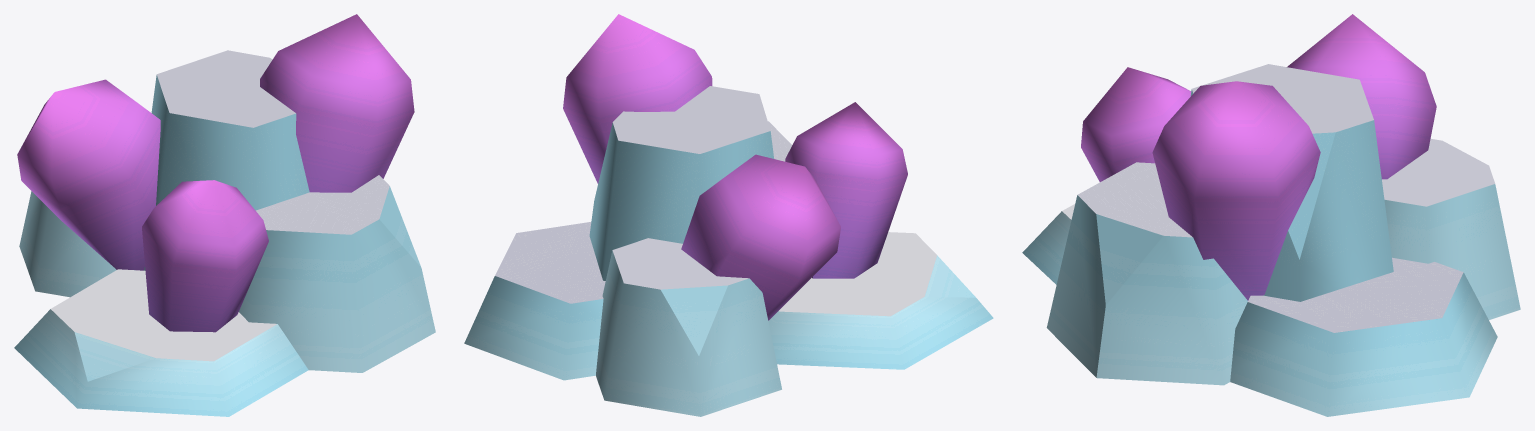
The model's file is snow-detail-crystal-large.glb.
3 renders of one model, left to right at view 1: azimuth 30°, elevation 25°; view 2: azimuth 150°, elevation 25°; view 3: azimuth 270°, elevation 25°, orthographic. The views are drawn at different scales.
Visible parts, largest first — view 1: snow-detail-crystal-large; view 2: snow-detail-crystal-large; view 3: snow-detail-crystal-large.
Part boxes in pixels (x1,y1,x2,y2): snow-detail-crystal-large: [14, 14, 435, 416]; snow-detail-crystal-large: [464, 14, 993, 416]; snow-detail-crystal-large: [1022, 14, 1520, 416].
Size of the model in its own units: 0.8922 by 0.5518 by 0.8593.
Materials: 1 (1 with a texture image).
